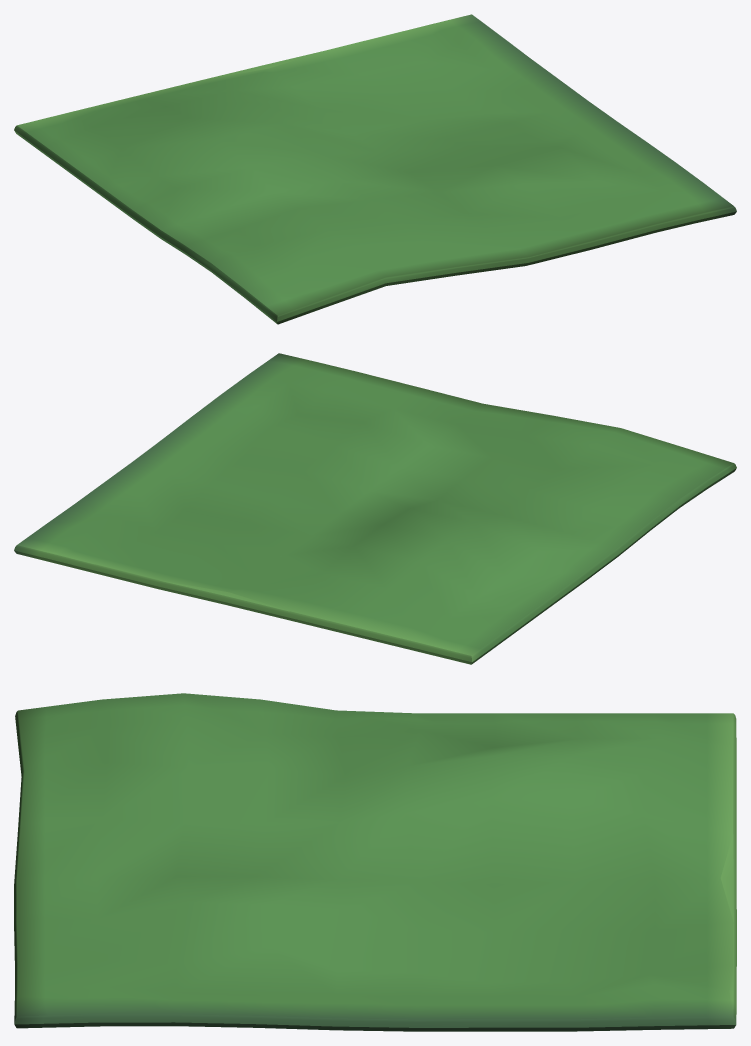
The model's file is golf.fbx.
The picture shows the model from 3 angles, top to bottom: view 1: azimuth 30°, elevation 25°; view 2: azimuth 150°, elevation 25°; view 3: azimuth 270°, elevation 25°; orthographic projection. The views are drawn at different scales.
Visible parts, largest first — view 1: Cube; view 2: Cube; view 3: Cube.
Boxes of the visible parts, left/top/right/bottom form: Cube: left=14, top=14, right=736, bottom=324; Cube: left=14, top=353, right=736, bottom=664; Cube: left=14, top=693, right=736, bottom=1031.
Bounding box in the file's own units: 1258 × 114 × 1236.
Materials: 1 (1 with a texture image).
